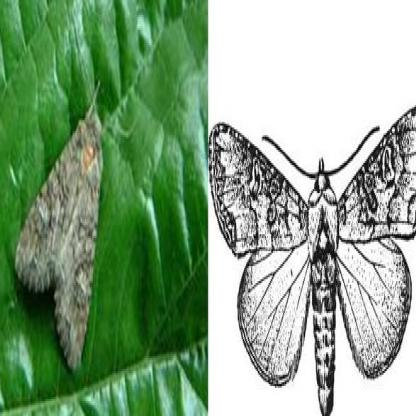armyworm: (209, 99, 416, 416), (7, 76, 113, 385)
